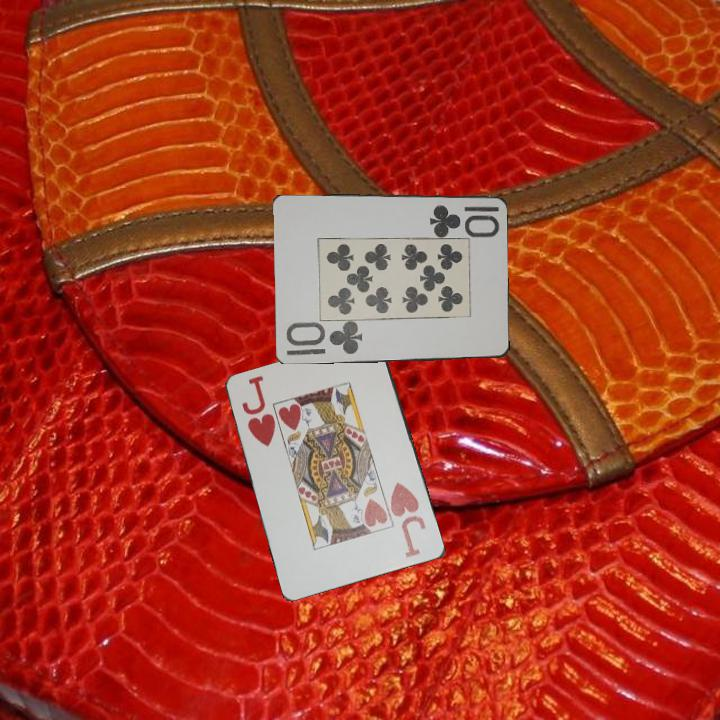Jh: (387, 479, 430, 561), (239, 373, 278, 450)
Tc: (283, 320, 366, 358), (426, 201, 502, 234)
